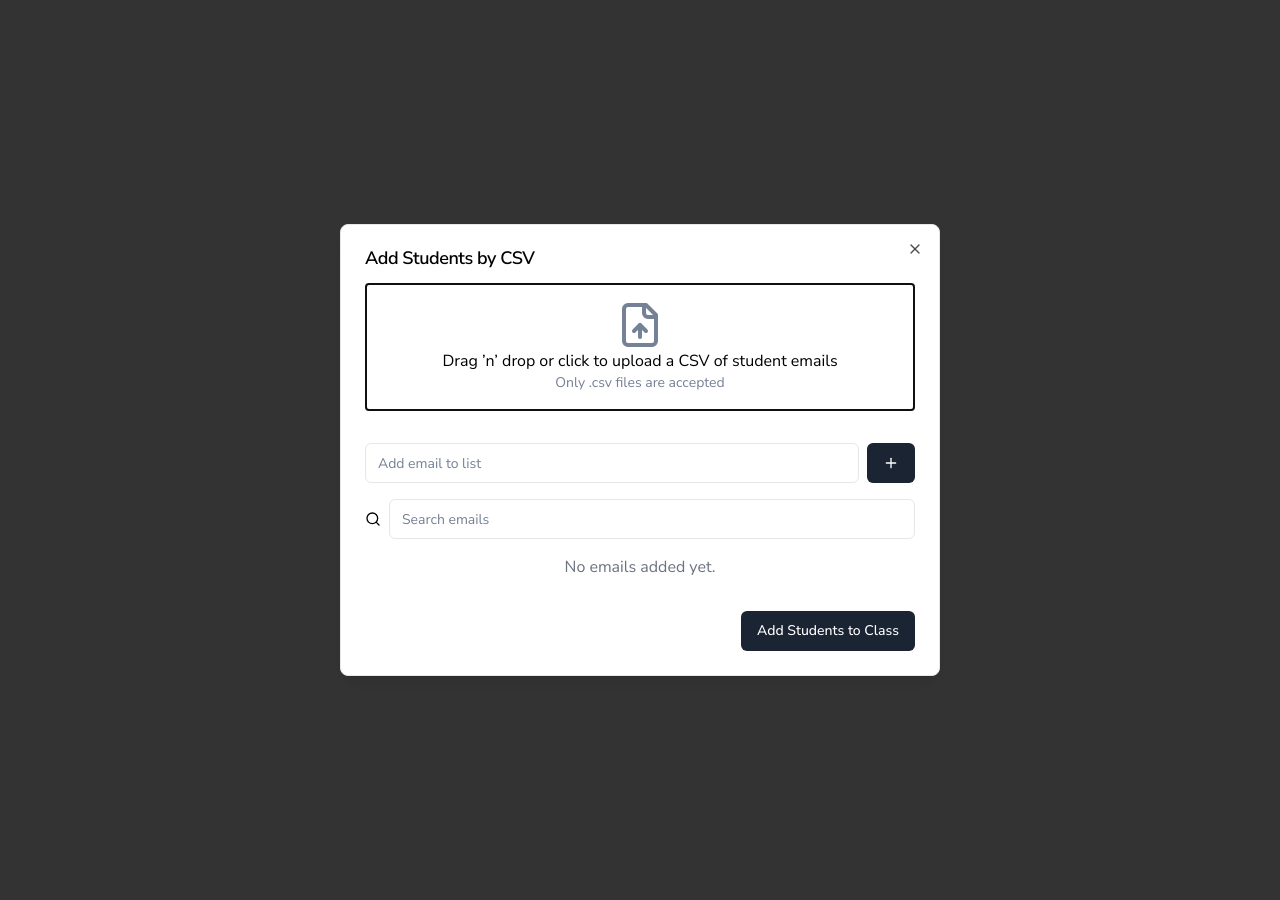
Test: AddStudentsByCSVDialog › adds a valid email to the list
The image size is (1280, 900).
In the field with placeholder "Add email to list": (612, 463) [365, 443, 859, 483], type "test@example.com"
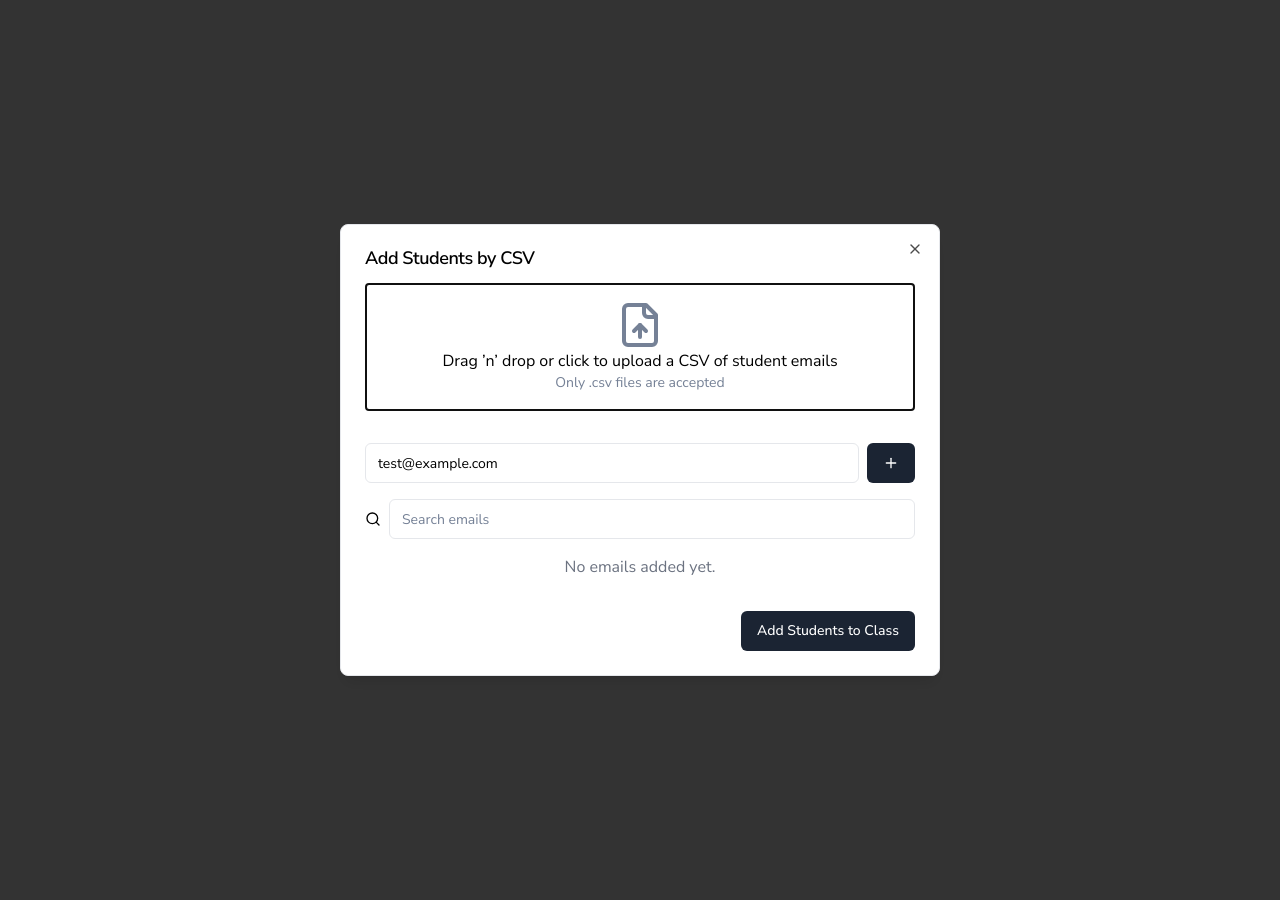
Press Enter in the field with placeholder "Add email to list", box [365, 443, 859, 483]
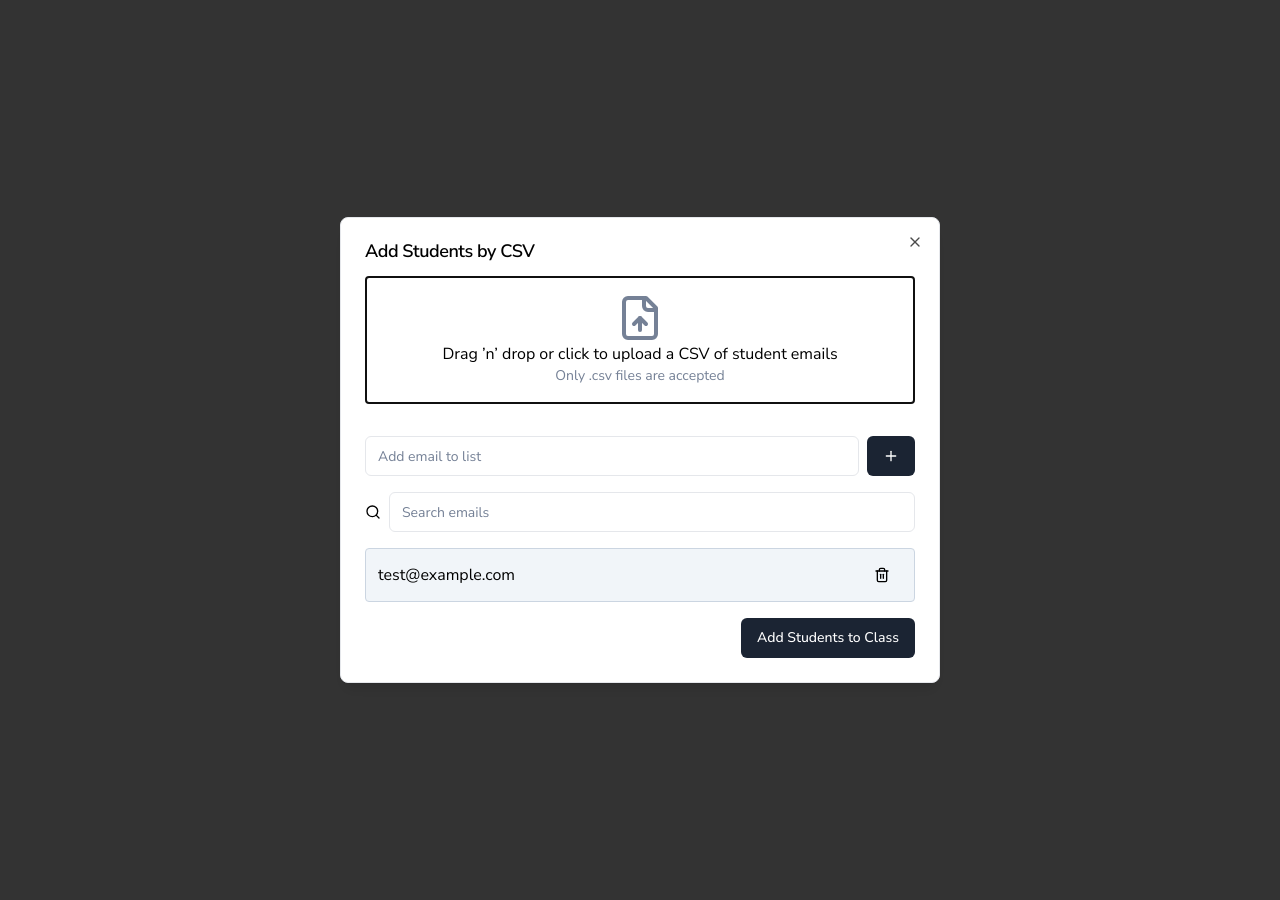
Result: the list item "test@example.com" is shown at [366, 549, 914, 601]
